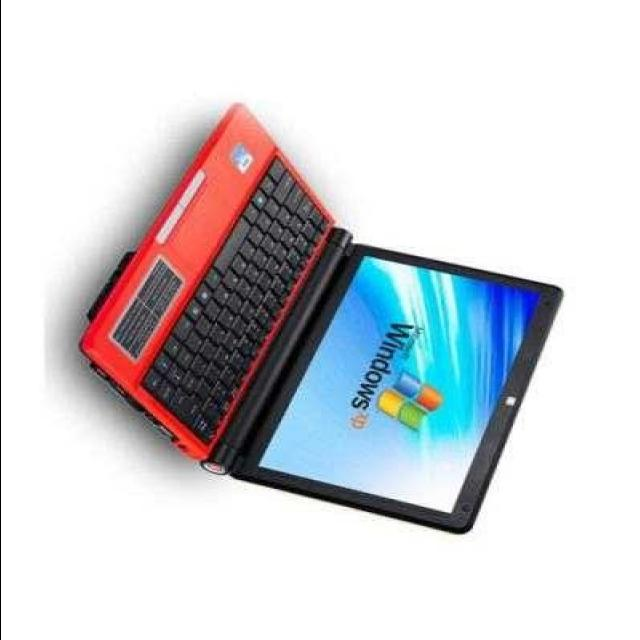laptop: (62, 88, 592, 522)
